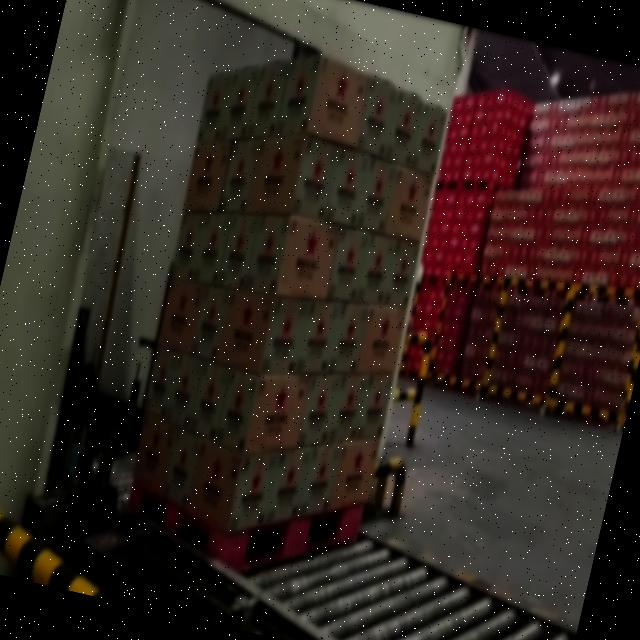pallet: (100, 26, 467, 606)
